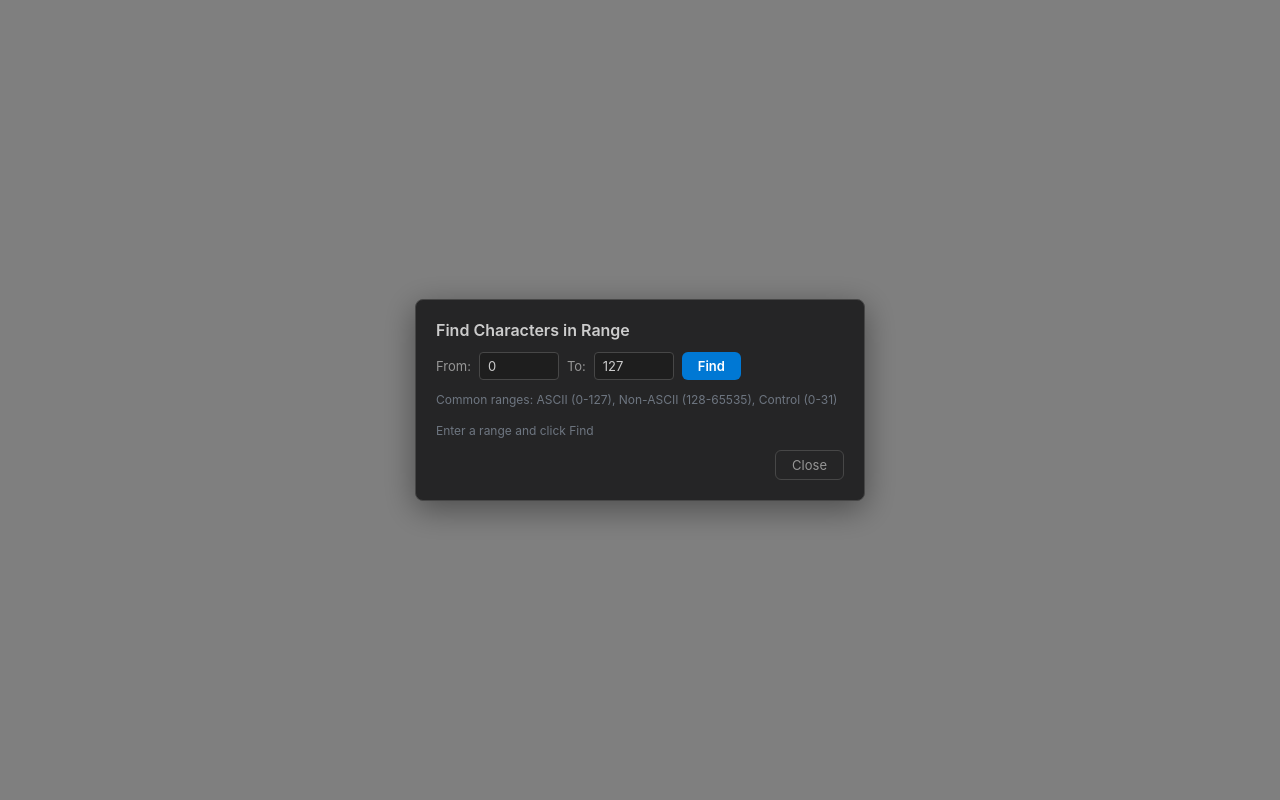
Scenario: CharInRangeDialog › finds characters in ASCII range
The image size is (1280, 800).
Click the button "Find": (711, 366) [682,352,741,380]
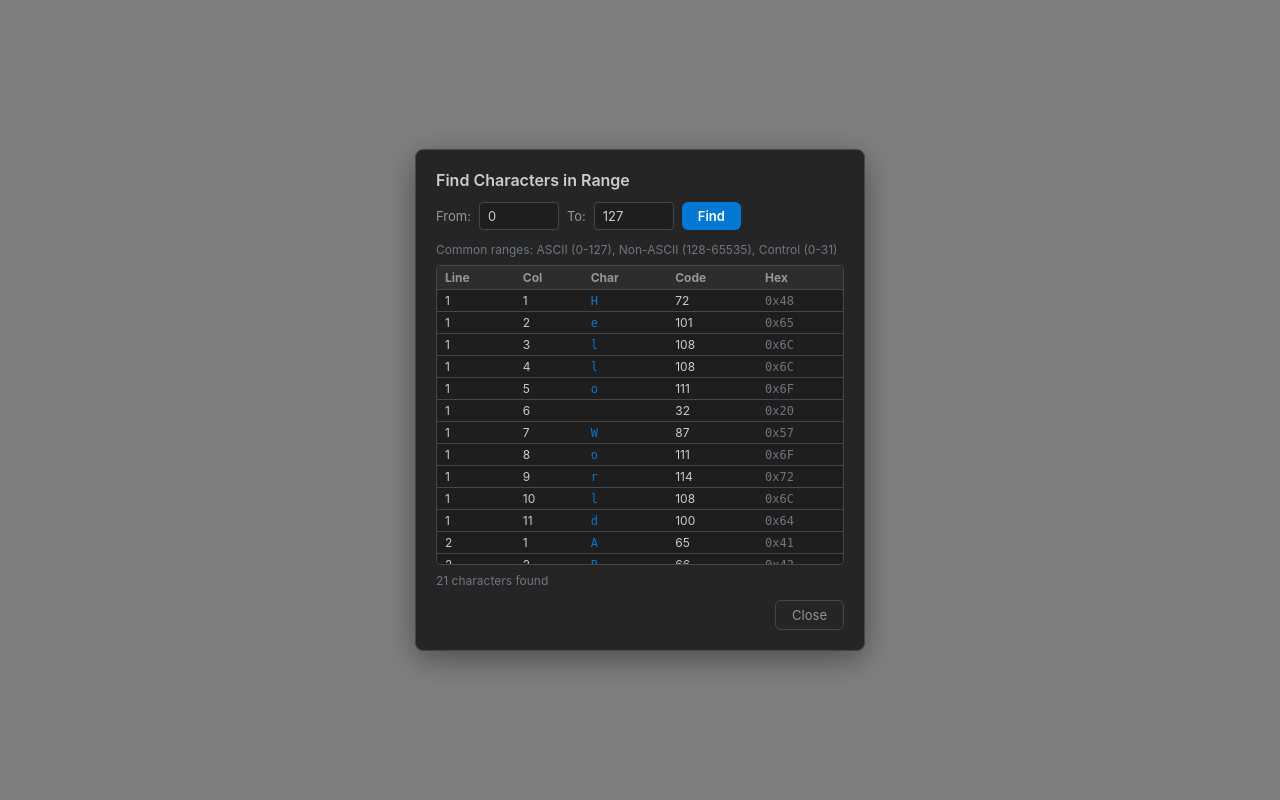
Expected: the text "21 characters found" is shown, [436,573,548,588]
